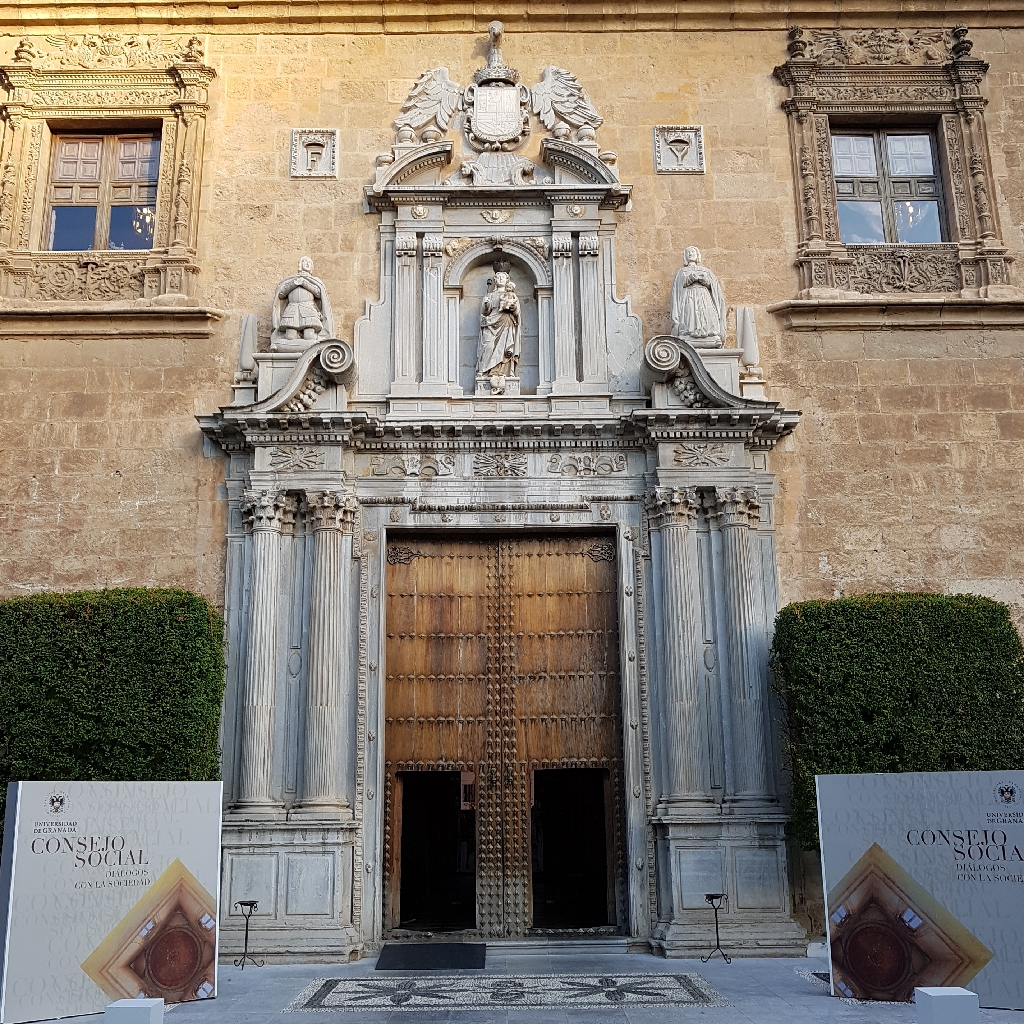arco-medio-punto: (453, 243, 546, 308)
fronton-partido: (211, 334, 785, 431), (371, 137, 622, 200)
vano-adintelado: (350, 493, 653, 949), (783, 93, 1002, 253), (1, 99, 213, 262)
